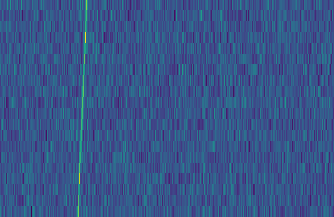signal: (70, 0, 89, 217)
